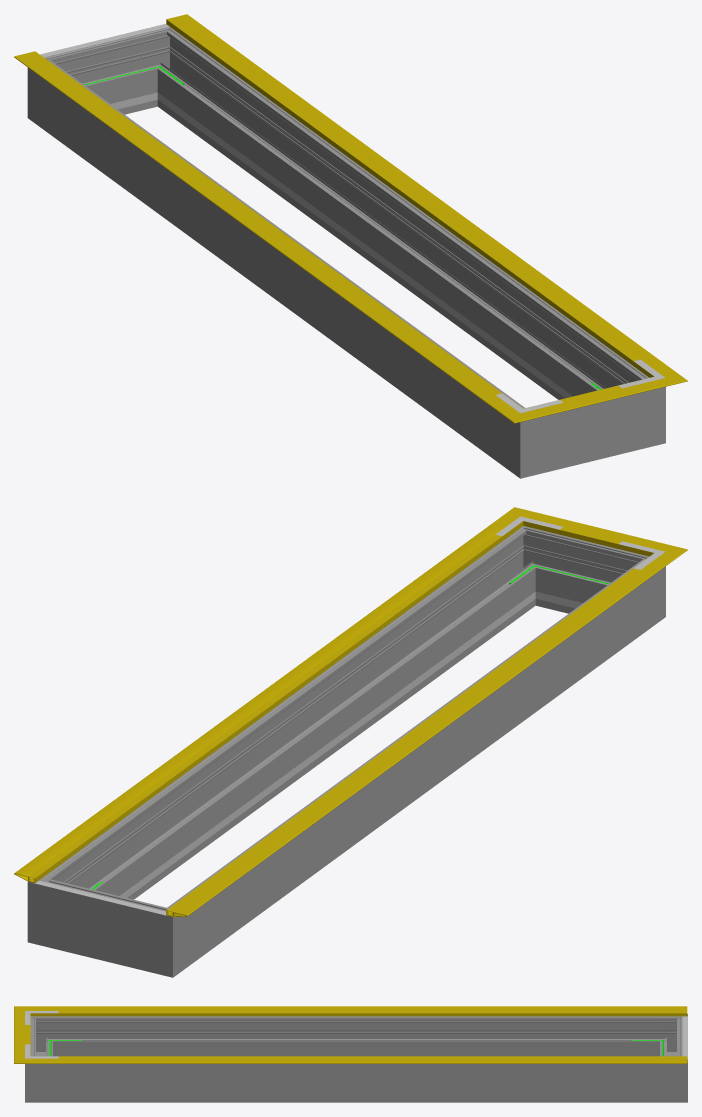
3 renders of one model, top to bottom at view 1: azimuth 30°, elevation 25°; view 2: azimuth 150°, elevation 25°; view 3: azimuth 270°, elevation 25°, orthographic. The views are drawn at different scales.
Visible parts, largest first — view 1: 3DGeom-297, 3DGeom-268, 3DGeom-145, 3DGeom-147, 3DGeom-270, 3DGeom-276, 3DGeom-154, 3DGeom-152, 3DGeom-298, 3DGeom-237, 3DGeom-290, 3DGeom-284 (+3 smaller); view 2: 3DGeom-297, 3DGeom-268, 3DGeom-145, 3DGeom-147, 3DGeom-278, 3DGeom-276, 3DGeom-298, 3DGeom-152, 3DGeom-154, 3DGeom-237, 3DGeom-284, 3DGeom-290 (+4 smaller); view 3: 3DGeom-268, 3DGeom-297, 3DGeom-147, 3DGeom-145, 3DGeom-152, 3DGeom-154, 3DGeom-284, 3DGeom-290, 3DGeom-278, 3DGeom-270, 3DGeom-149, 3DGeom-141 (+4 smaller).
Boxes of the visible parts, bbox=[...] form: 3DGeom-297: bbox=[162, 42, 633, 399]; 3DGeom-268: bbox=[52, 72, 509, 459]; 3DGeom-145: bbox=[166, 14, 662, 371]; 3DGeom-147: bbox=[14, 52, 509, 404]; 3DGeom-270: bbox=[495, 396, 563, 478]; 3DGeom-276: bbox=[75, 35, 150, 114]; 3DGeom-154: bbox=[28, 51, 501, 394]; 3DGeom-152: bbox=[166, 17, 639, 360]; 3DGeom-298: bbox=[563, 397, 622, 467]; 3DGeom-237: bbox=[182, 110, 572, 397]; 3DGeom-290: bbox=[622, 366, 665, 453]; 3DGeom-284: bbox=[134, 27, 190, 109]; 3DGeom-297: bbox=[60, 541, 531, 899]; 3DGeom-268: bbox=[184, 571, 640, 959]; 3DGeom-145: bbox=[14, 525, 510, 882]; 3DGeom-147: bbox=[166, 564, 662, 916]; 3DGeom-278: bbox=[129, 895, 197, 977]; 3DGeom-276: bbox=[71, 886, 137, 966]; 3DGeom-298: bbox=[543, 534, 618, 613]; 3DGeom-152: bbox=[28, 534, 501, 879]; 3DGeom-154: bbox=[166, 568, 639, 912]; 3DGeom-237: bbox=[119, 609, 511, 897]; 3DGeom-284: bbox=[27, 865, 78, 952]; 3DGeom-290: bbox=[502, 526, 559, 608]; 3DGeom-268: bbox=[58, 1016, 654, 1056]; 3DGeom-297: bbox=[58, 1064, 654, 1102]; 3DGeom-147: bbox=[47, 1006, 687, 1016]; 3DGeom-145: bbox=[47, 1058, 687, 1063]; 3DGeom-152: bbox=[58, 1056, 687, 1058]; 3DGeom-154: bbox=[58, 1011, 687, 1013]; 3DGeom-284: bbox=[654, 1047, 687, 1102]; 3DGeom-290: bbox=[25, 1047, 58, 1102]; 3DGeom-278: bbox=[654, 1014, 687, 1056]; 3DGeom-270: bbox=[30, 1016, 58, 1056]; 3DGeom-149: bbox=[14, 1006, 47, 1020]; 3DGeom-141: bbox=[14, 1020, 30, 1048].
Bounding box in the file's own units: 0.6096 × 0.2195 × 3.05.
